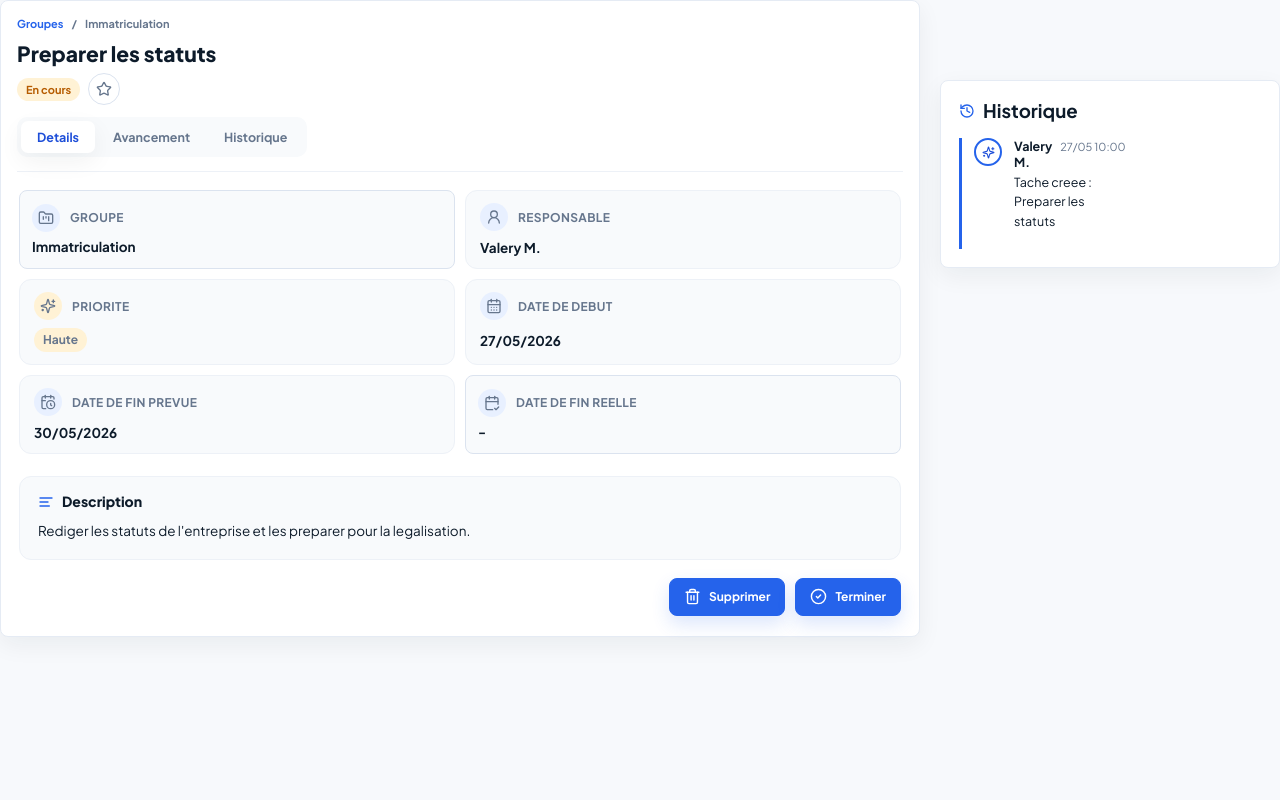
Scenario: TaskDetail › shows an error message when the deletion fails
Click the button "Supprimer" at (727, 597), box [669,578,786,616]
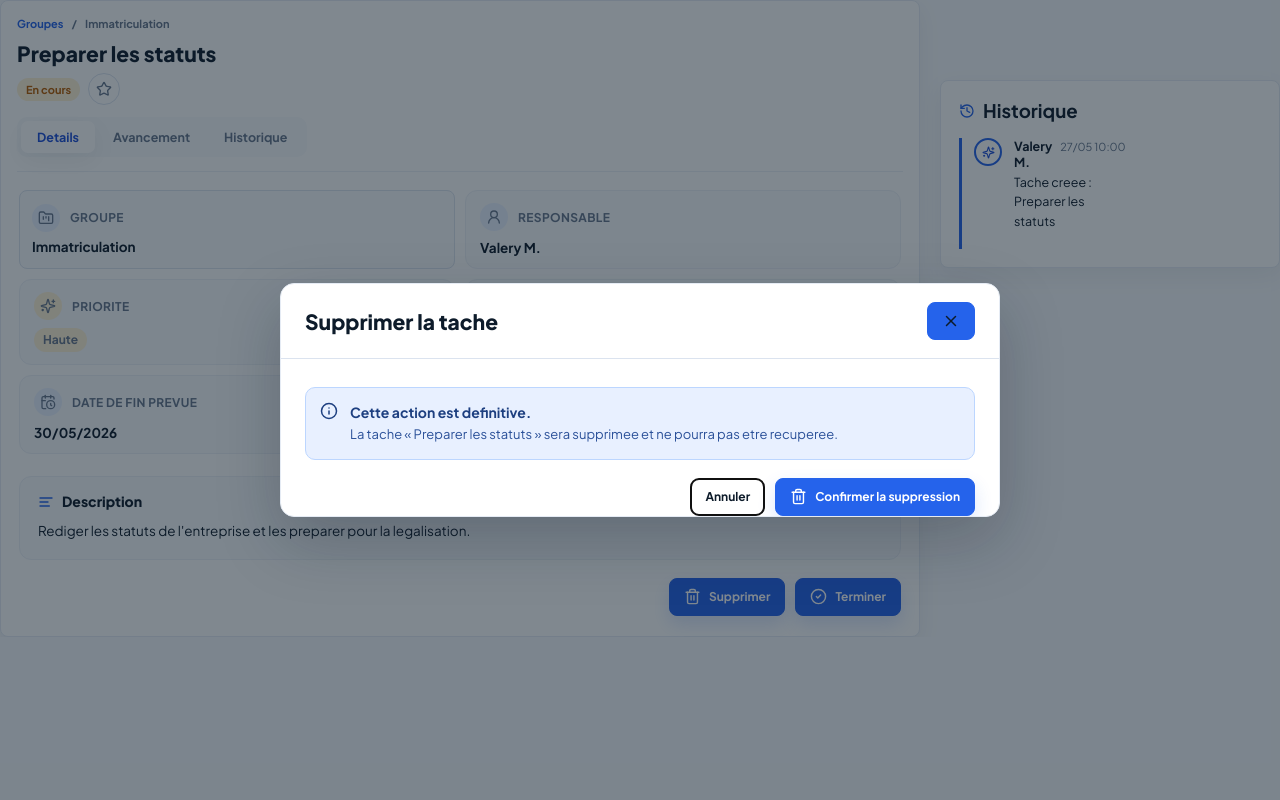
Click the button "Confirmer la suppression" at (875, 497), box [775,478,975,516]
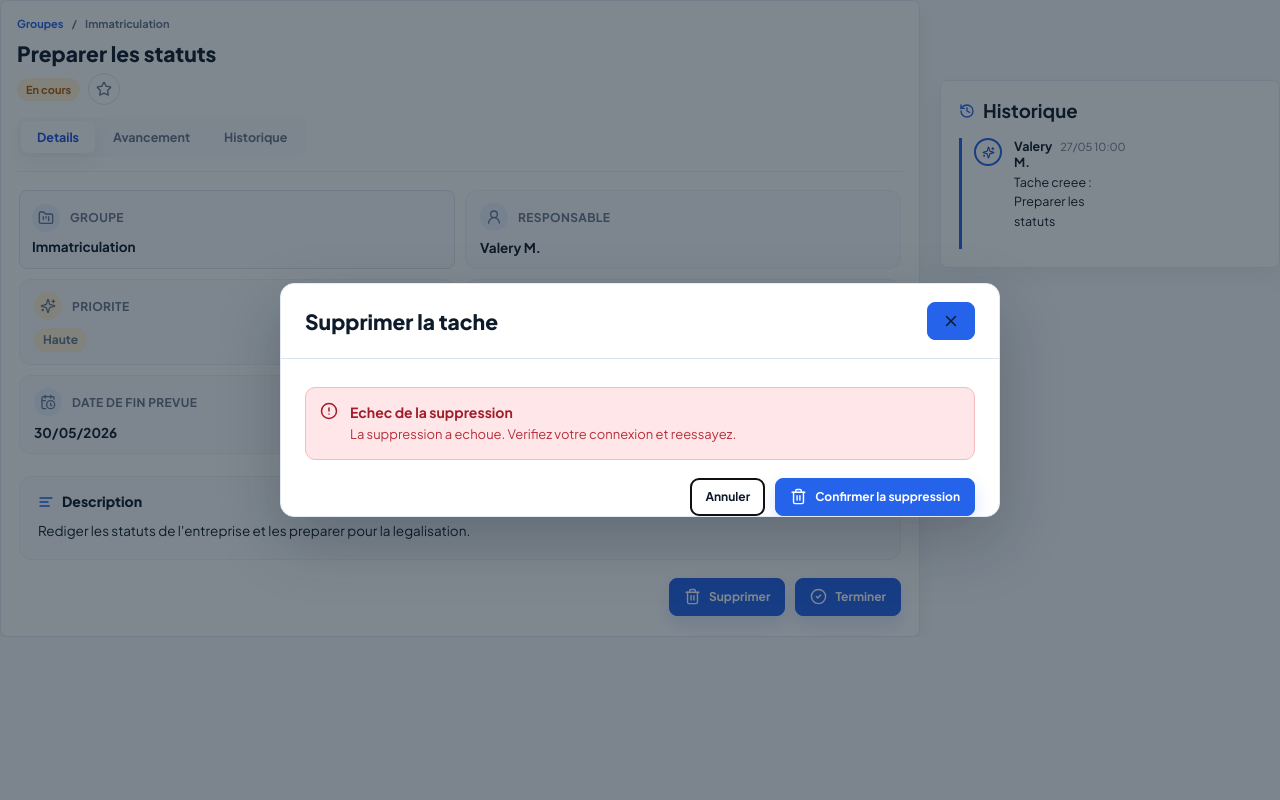
Now the text "La suppression a echoue" is shown, box [350,426,736,442]
